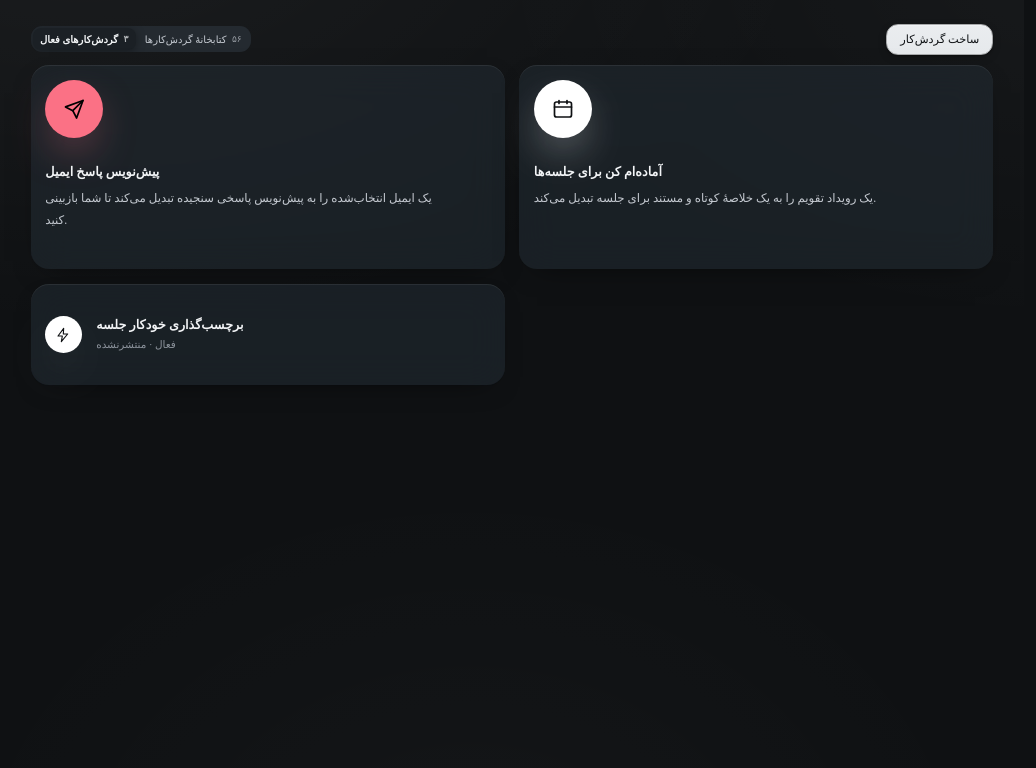
Test: the workflows list › lists an uninstalled starter in the library and hides an installed one
Click the tab "کتابخانهٔ گردش‌کارها ۵۶".
click(193, 39)  # box 138,28 -> 249,50
(page scrolled)
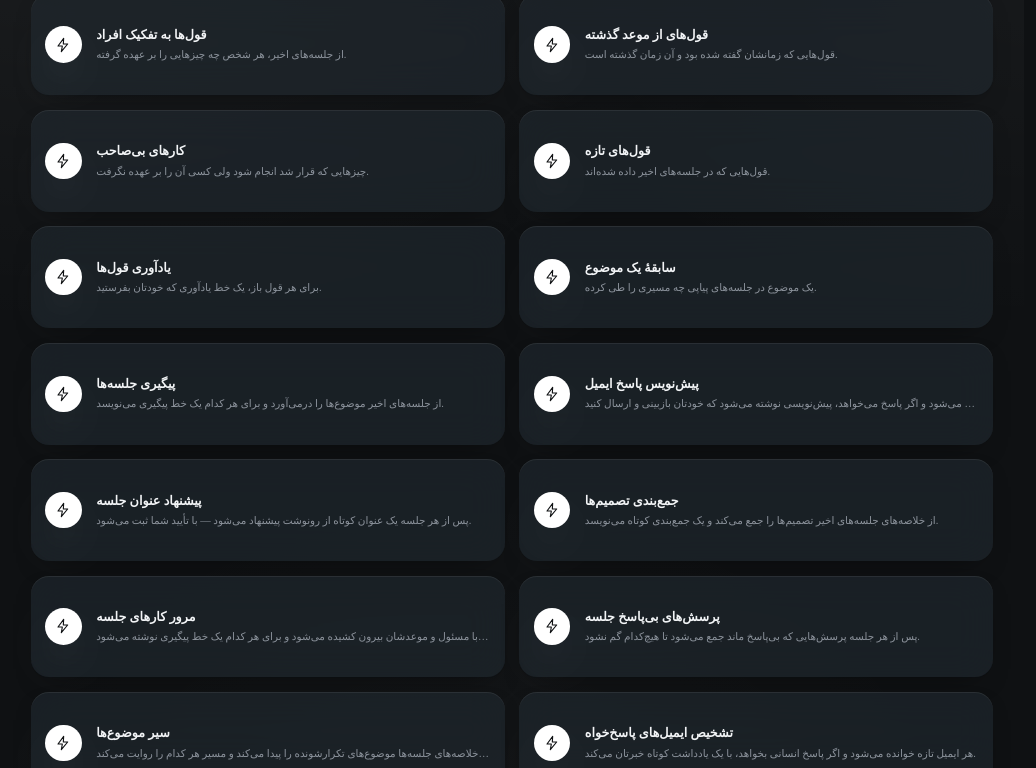
Result: the text "پیگیری جلسه‌ها" is shown at 96,377 -> 175,391
